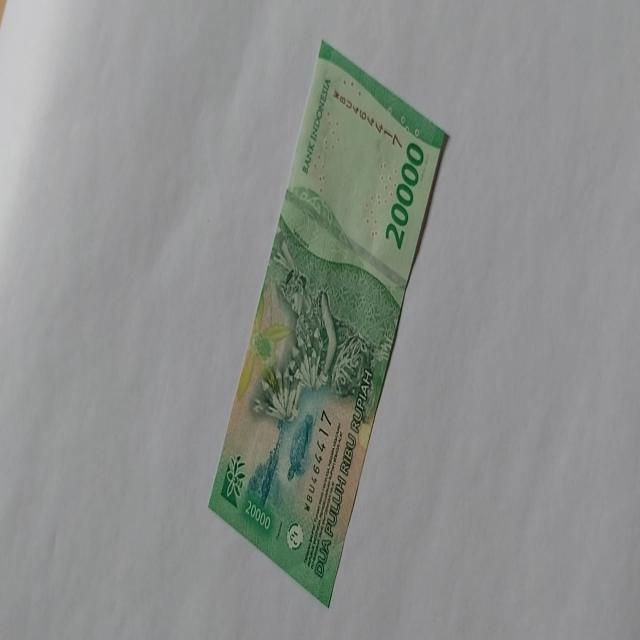dua puluh ribu rupiah: (206, 37, 450, 607)
